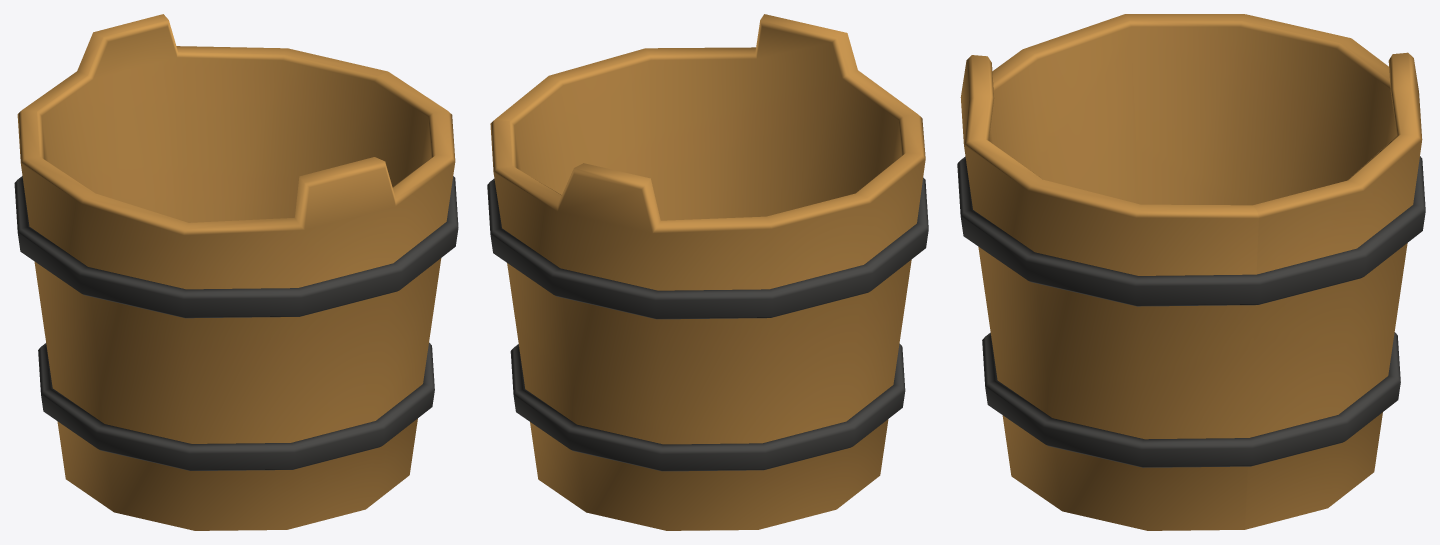
Rendered from Balde.fbx.
3 views of the same model, side by side, from view 1: azimuth 30°, elevation 25°; view 2: azimuth 150°, elevation 25°; view 3: azimuth 270°, elevation 25° (orthographic). The views are drawn at different scales.
Parts seen in each view (by area): view 1: Balde; view 2: Balde; view 3: Balde.
Part boxes in pixels (x1,y1,x2,y2): Balde: (14,14,458,530); Balde: (487,14,928,530); Balde: (957,14,1425,530).
Size of the model in its own units: 130 by 117 by 130.
Materials: 1 (1 with a texture image).
